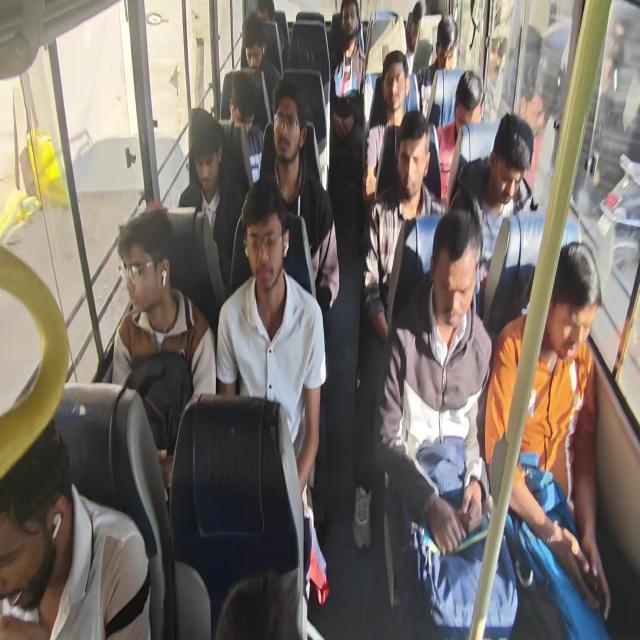person: (103, 1, 610, 637), (373, 196, 519, 637), (215, 178, 327, 636), (483, 240, 611, 622), (352, 109, 448, 549), (0, 417, 152, 639), (111, 205, 216, 501), (230, 78, 340, 308), (362, 109, 448, 342), (449, 112, 535, 317), (177, 111, 244, 291), (220, 11, 282, 132), (328, 1, 367, 193), (365, 50, 409, 200), (434, 69, 484, 200), (220, 70, 264, 196), (416, 14, 459, 121), (482, 34, 507, 121)
